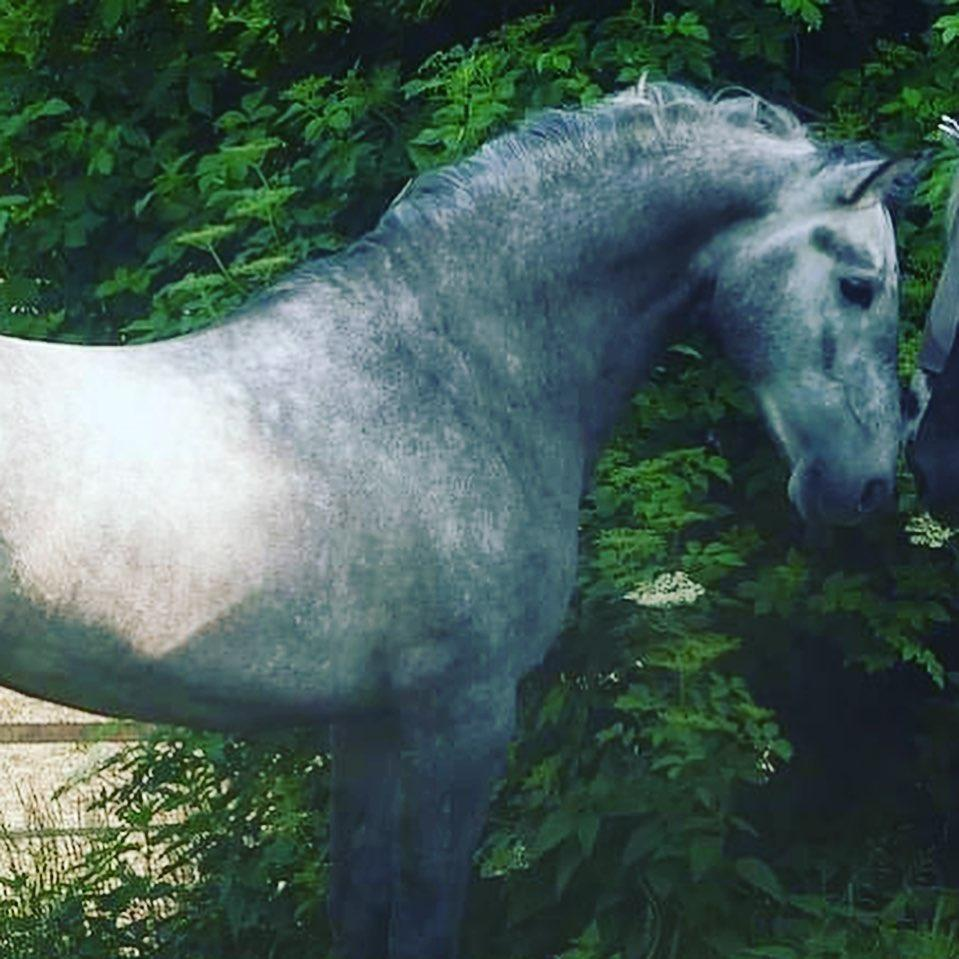horse: (0, 73, 934, 957)
